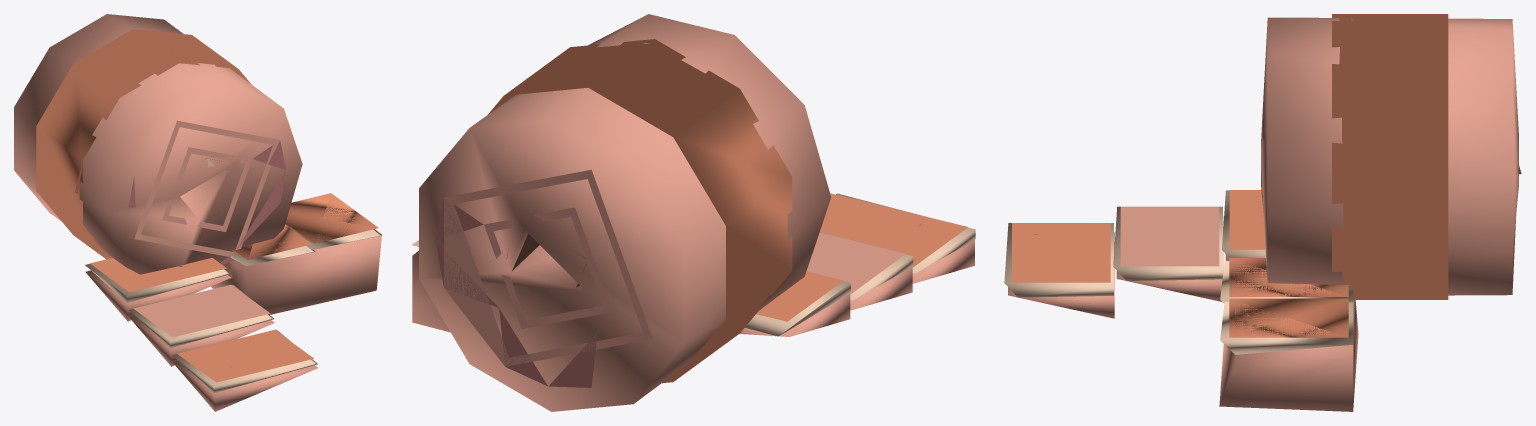
The model's file is pick.bandages.lod1.glb.
3 renders of one model, left to right at view 1: azimuth 30°, elevation 25°; view 2: azimuth 150°, elevation 25°; view 3: azimuth 270°, elevation 25°, orthographic. The views are drawn at different scales.
Bounding box in the file's own units: 0.7627 × 0.6389 × 1.02.
